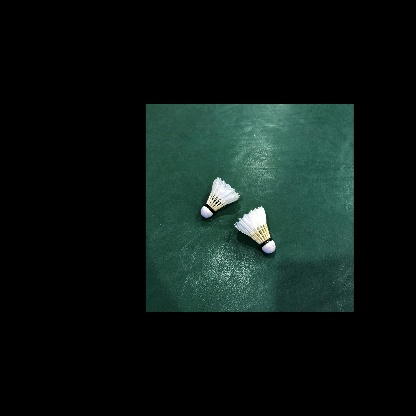ball_single: (234, 206, 276, 253), (200, 177, 240, 218)
